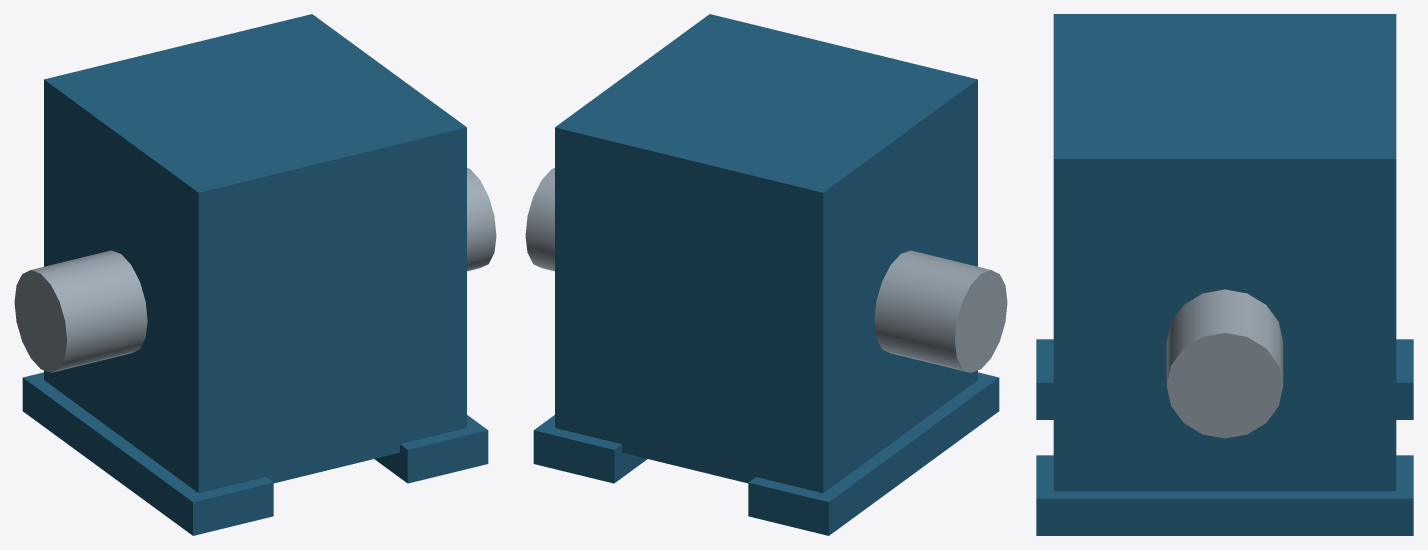
3 views of the same model, side by side, from view 1: azimuth 30°, elevation 25°; view 2: azimuth 150°, elevation 25°; view 3: azimuth 270°, elevation 25° (orthographic). The views are drawn at different scales.
Visible parts, largest first — view 1: SEW,减速机,FA77/G 速比19.70,序号25.8172351203.0001.22.21，含皖南防爆电机YFB; view 2: SEW,减速机,FA77/G 速比19.70,序号25.8172351203.0001.22.21，含皖南防爆电机YFB; view 3: SEW,减速机,FA77/G 速比19.70,序号25.8172351203.0001.22.21，含皖南防爆电机YFB.
Boxes of the visible parts, x1,y1,x2,y2 form: SEW,减速机,FA77/G 速比19.70,序号25.8172351203.0001.22.21，含皖南防爆电机YFB: [14, 14, 496, 535]; SEW,减速机,FA77/G 速比19.70,序号25.8172351203.0001.22.21，含皖南防爆电机YFB: [525, 14, 1007, 535]; SEW,减速机,FA77/G 速比19.70,序号25.8172351203.0001.22.21，含皖南防爆电机YFB: [1036, 14, 1413, 535].
Size of the model in its own units: 0.8 by 0.595 by 0.55.
